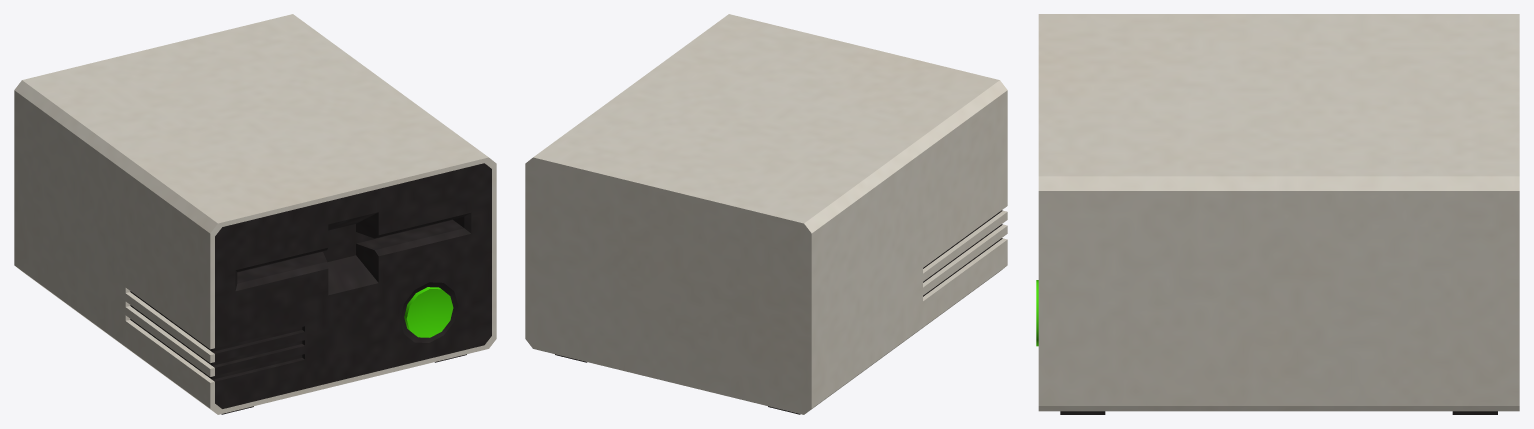
The model's file is SM_FloppyDrive_00.fbx.
3 views of the same model, side by side, from view 1: azimuth 30°, elevation 25°; view 2: azimuth 150°, elevation 25°; view 3: azimuth 270°, elevation 25° (orthographic). The views are drawn at different scales.
Parts seen in each view (by area): view 1: Floppy_Drive; view 2: Floppy_Drive; view 3: Floppy_Drive.
Part boxes in pixels (bbox=[...]): Floppy_Drive: bbox=[14, 14, 496, 414]; Floppy_Drive: bbox=[525, 14, 1007, 414]; Floppy_Drive: bbox=[1036, 14, 1519, 414].
Bounding box in the file's own units: 14.71 × 9.85 × 17.5.
